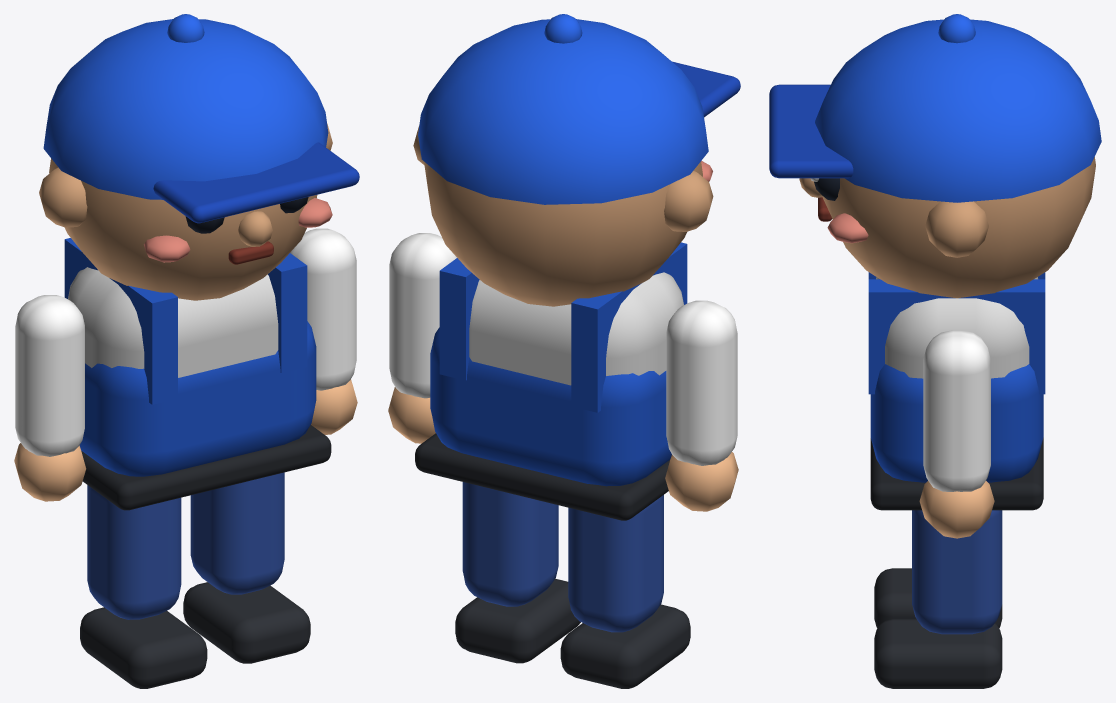
Rendered from person_keeper.glb.
3 views of the same model, side by side, from view 1: azimuth 30°, elevation 25°; view 2: azimuth 150°, elevation 25°; view 3: azimuth 270°, elevation 25° (orthographic). The views are drawn at different scales.
Visible parts, largest first — view 1: Torso, Hat, LegL, LegR, ArmL, ArmR; view 2: Torso, Hat, LegL, LegR, ArmL, ArmR; view 3: Torso, Hat, LegR, ArmR, LegL.
Part boxes in pixels (x1,y1,x2,y2): Torso: (39,123,332,510); Hat: (43,14,359,223); LegL: (80,485,207,688); LegR: (183,472,310,663); ArmL: (14,295,86,501); ArmR: (290,228,357,434); Torso: (413,126,713,520); Hat: (418,14,740,204); LegL: (560,495,690,688); LegR: (455,482,580,663); ArmL: (665,300,738,511); ArmR: (388,233,456,443); Torso: (799,157,1095,510); Hat: (769,14,1101,202); LegR: (874,510,1002,688); ArmR: (919,330,994,538); LegL: (874,568,1002,628).
Size of the model in its own units: 1.04 by 1.86 by 0.885.
